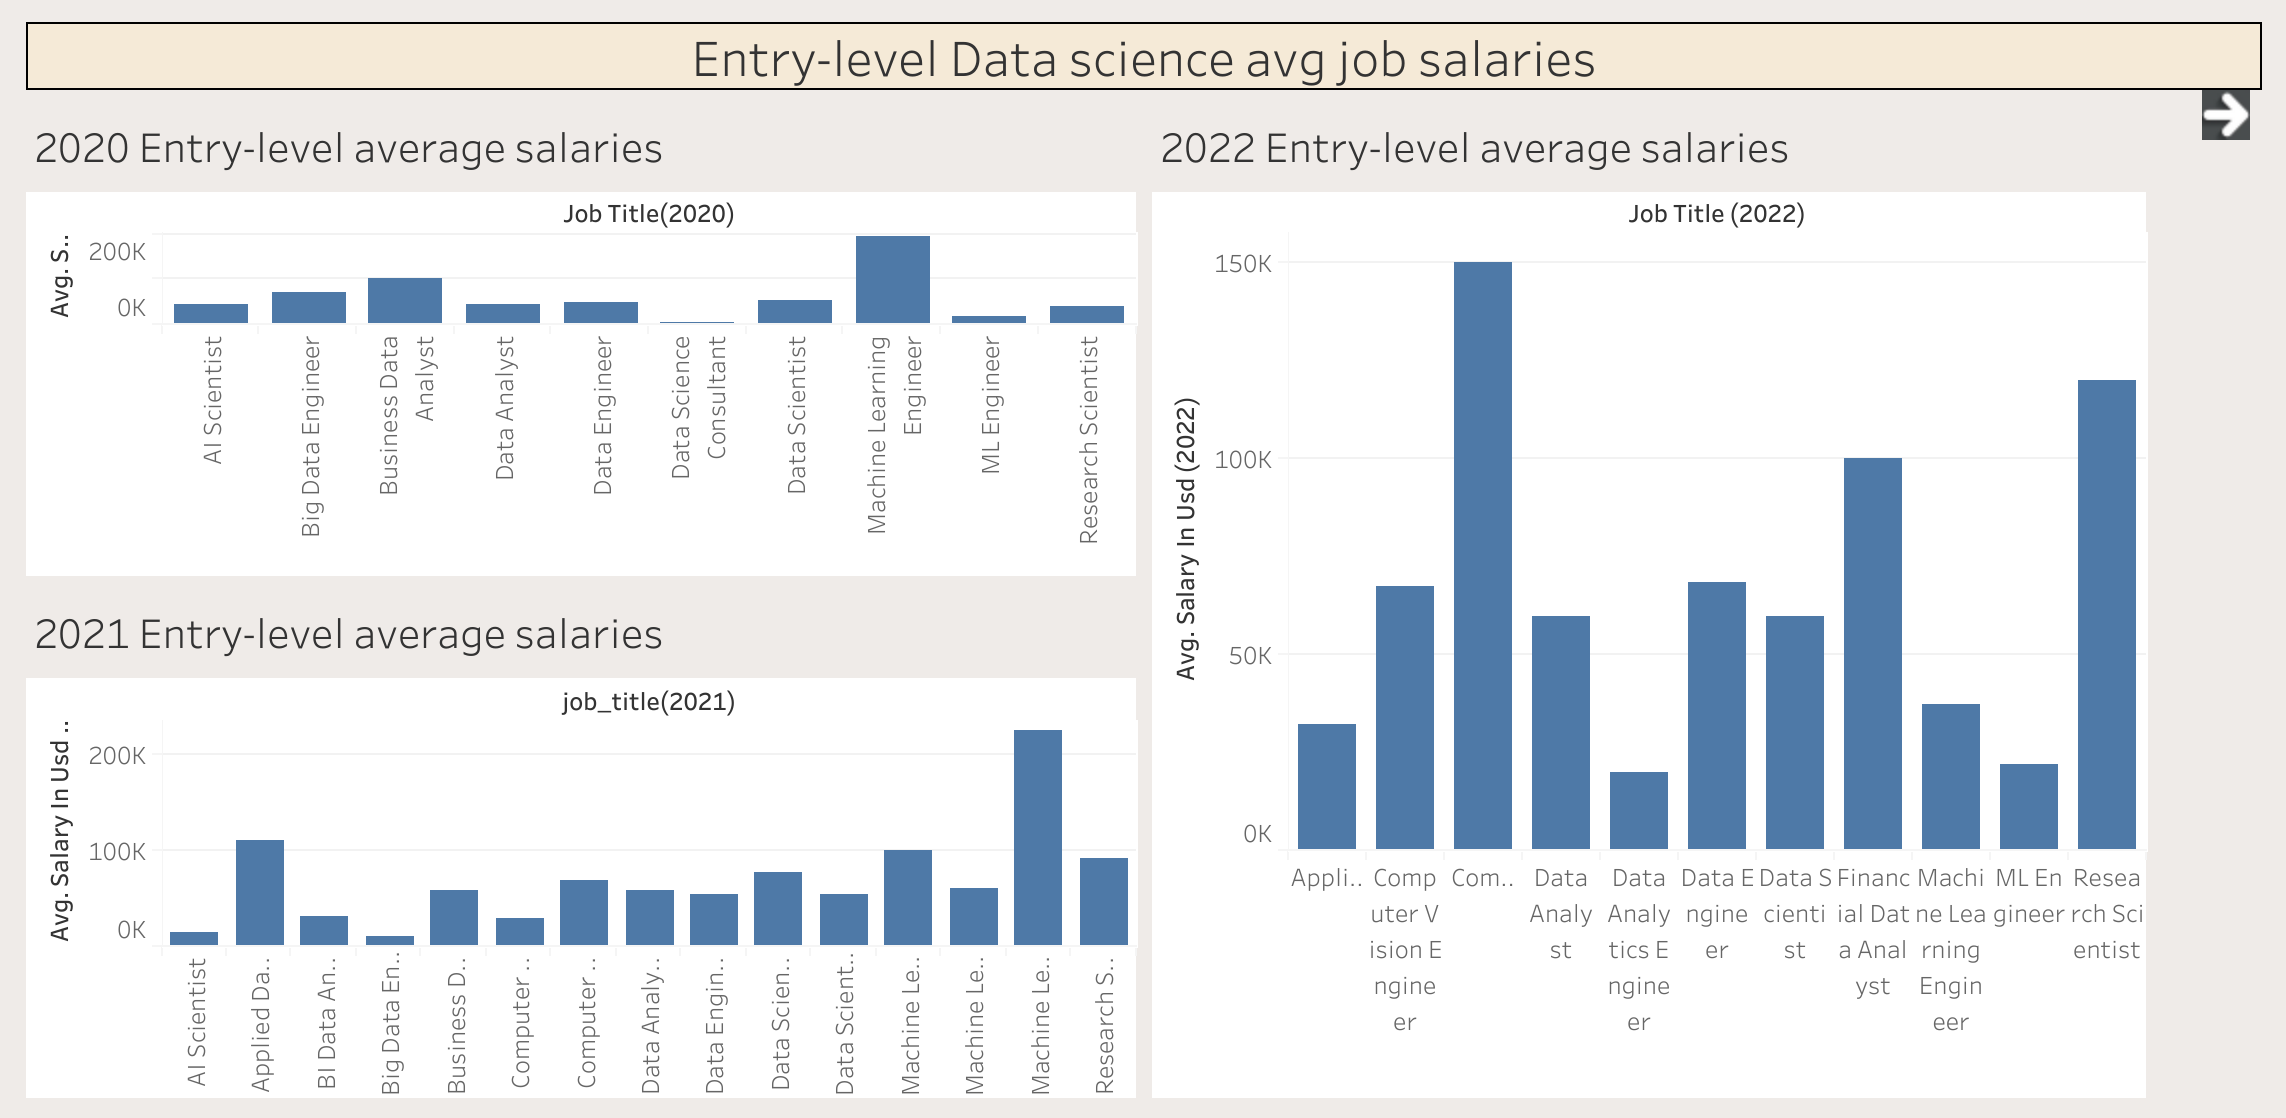

What the dashboard file says about the page in this screenshot:
{"tool":"tableau","page":{"name":"Dashboard 2","canvas":[1000,1000],"units":"permille","ordinal":1},"visuals":[{"type":"title","box":[7.6,13.8,984.8,70.7]},{"type":"dashboard-object","box":[920.1,71.4,22.1,39.3]},{"type":"dashboard-object","box":[946.1,71.4,22.1,39.3]},{"type":"worksheet","title":"Sheet 4","mark":"Automatic","rows":["salary_in_usd"],"cols":["job_title"],"box":[7.6,84.5,461,450.2]},{"type":"worksheet","title":"Sheet 6","mark":"Automatic","rows":["salary_in_usd (2022 Junior level job salaries.csv)"],"cols":["job_title (2022 Junior level job salaries.csv)"],"box":[468.6,84.5,523.8,901.7]},{"type":"worksheet","title":"Sheet 5","mark":"Automatic","box":[7.6,534.7,461,451.5]}]}

Visuals, with their boxes on the dashboard's canvas, which has no fixed pixel size, in thousandths of its width and height (x1, y1, x2, y2). These are canvas units, not pixel positions in the 2286x1118 screenshot, which may show the page scaled, cropped or inside an application window:
title: rect(8, 14, 992, 84)
dashboard-object: rect(920, 71, 942, 111)
dashboard-object: rect(946, 71, 968, 111)
"Sheet 4" worksheet: rect(8, 84, 469, 535)
"Sheet 6" worksheet: rect(469, 84, 992, 986)
"Sheet 5" worksheet: rect(8, 535, 469, 986)
